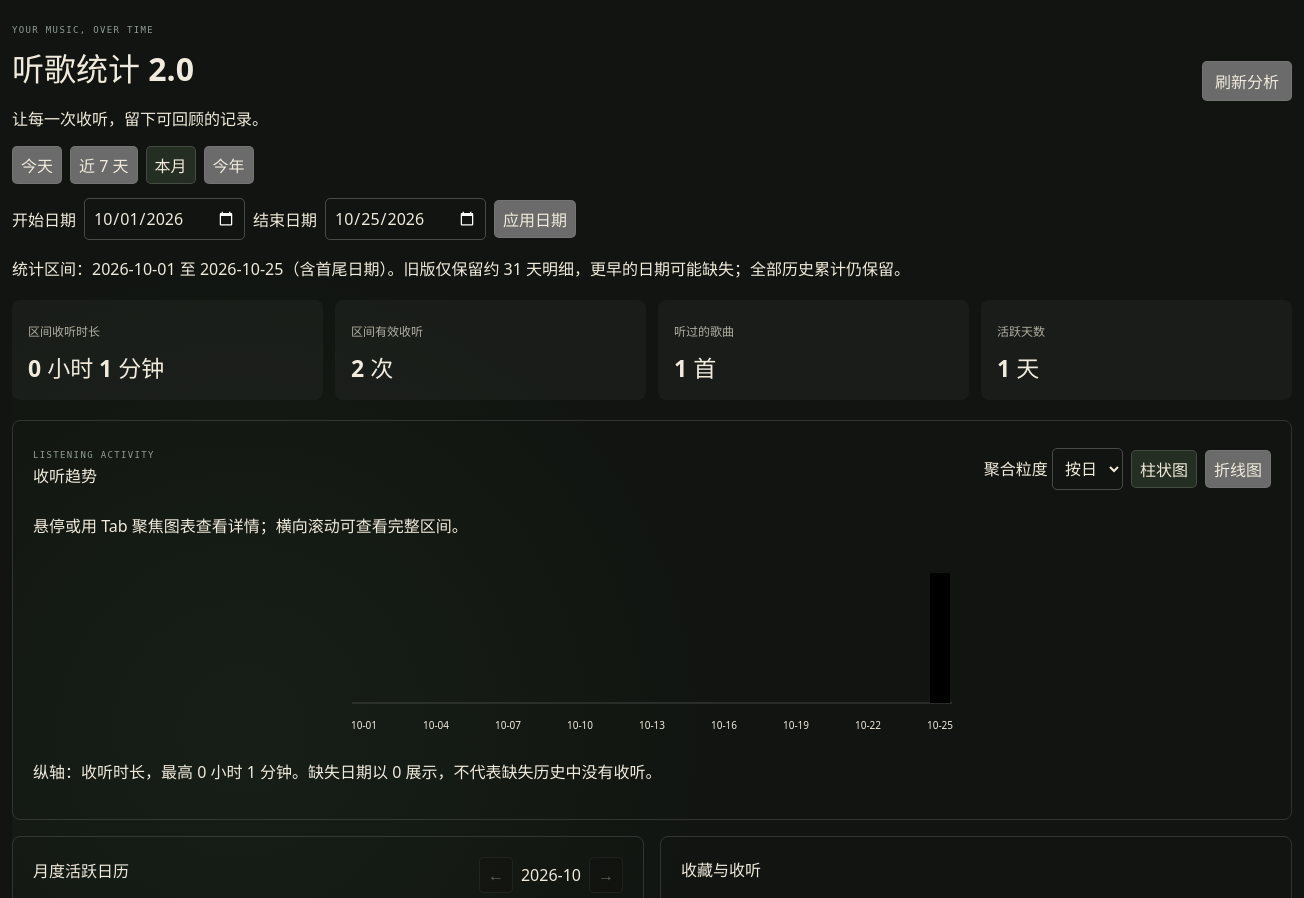
Test: 自定义日期校验、空状态和错误重试
The width and height of the screenshot is (1304, 898).
Type "2027-01-01" into the date field labelled "开始日期" at (164, 219), box [84,198,245,240]
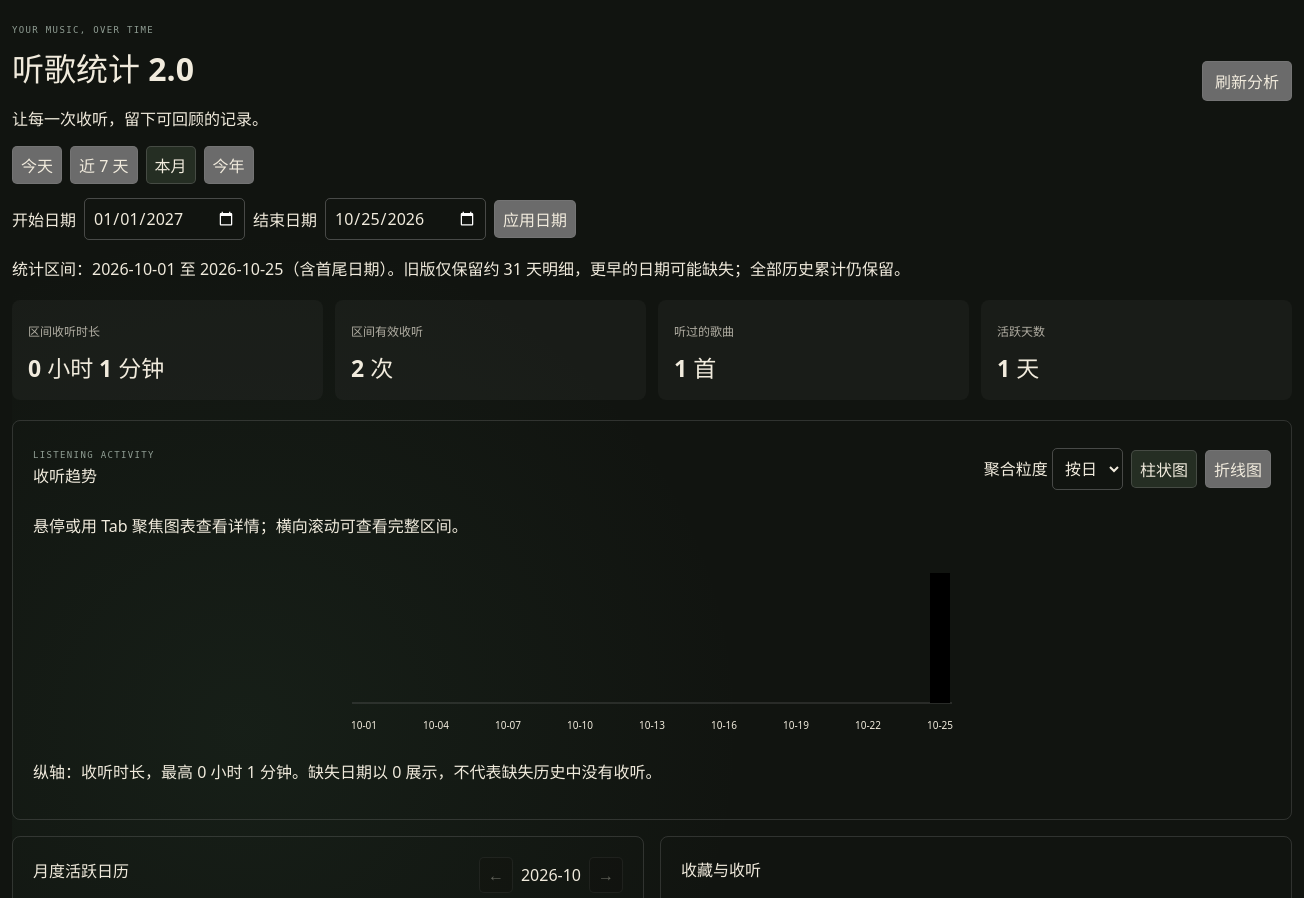
Click the button "应用日期" at (535, 219), box [494,200,576,238]
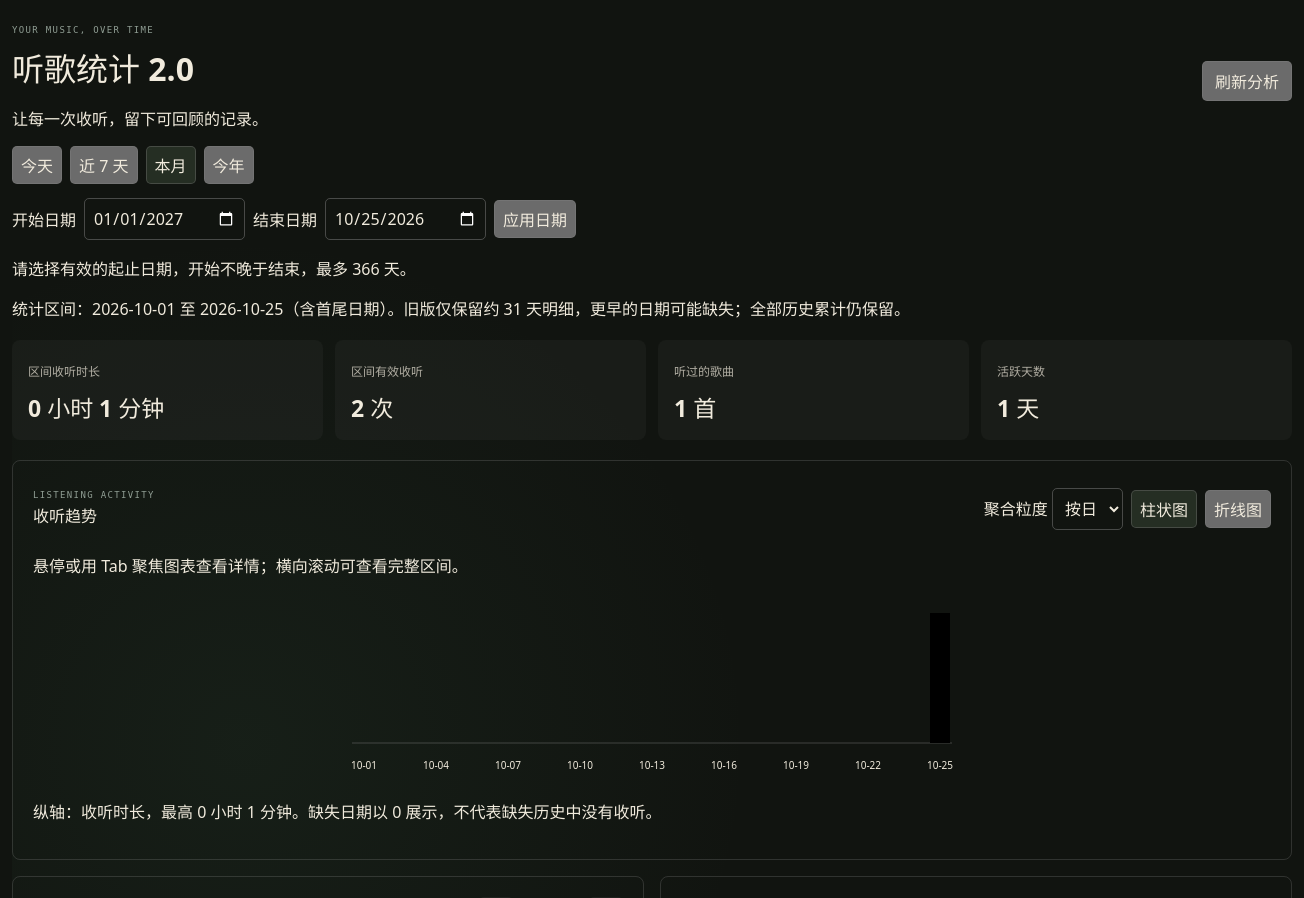
Expected: the message shows "最多 366 天", [12,258,416,280]
Click the button "刷新分析" at (1247, 81), box [1202,61,1292,101]
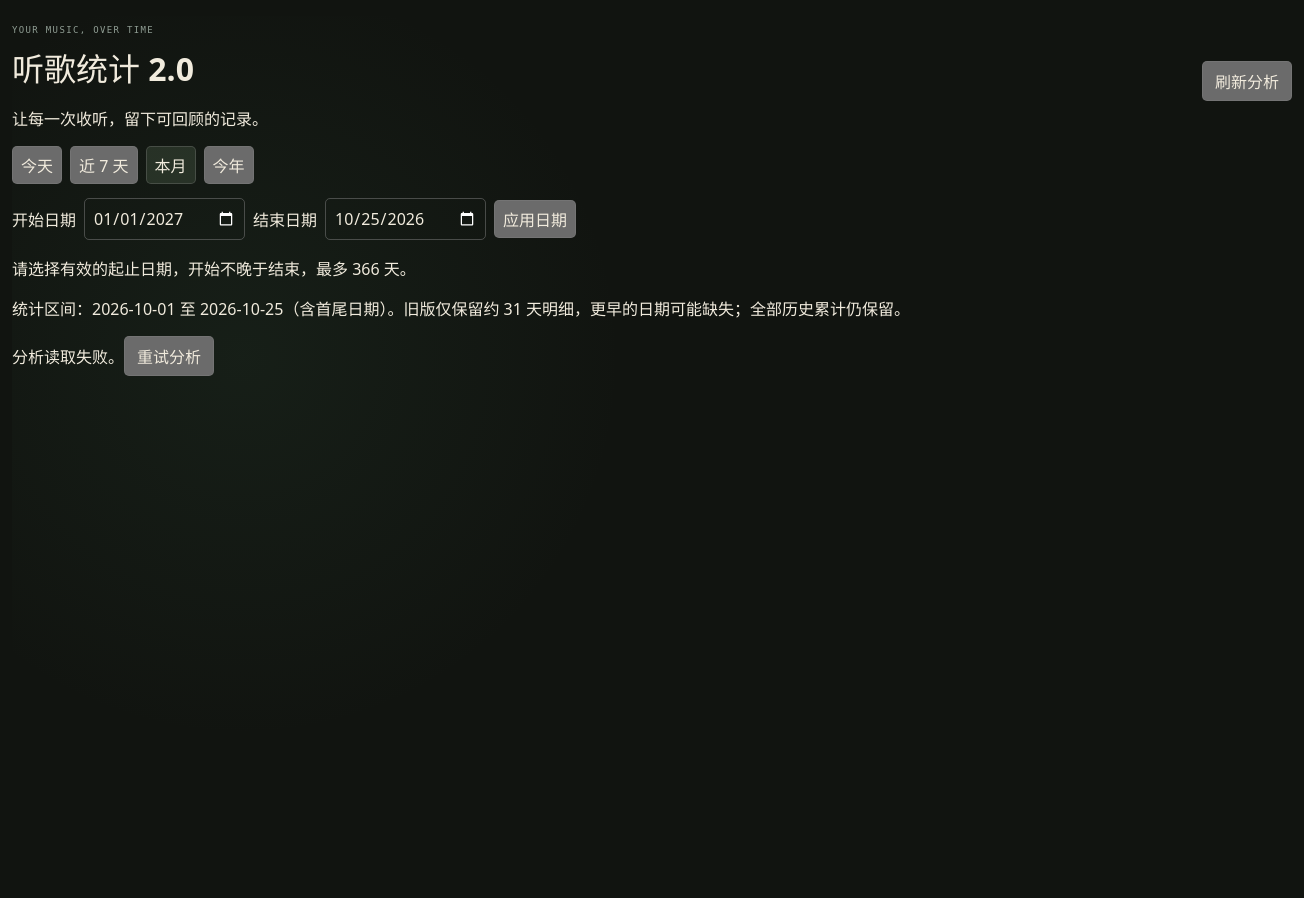
Expected: the text "分析读取失败。 重试分析" is shown, [12,336,214,376]
Click the button "重试分析" at (169, 356), box [124,336,214,376]
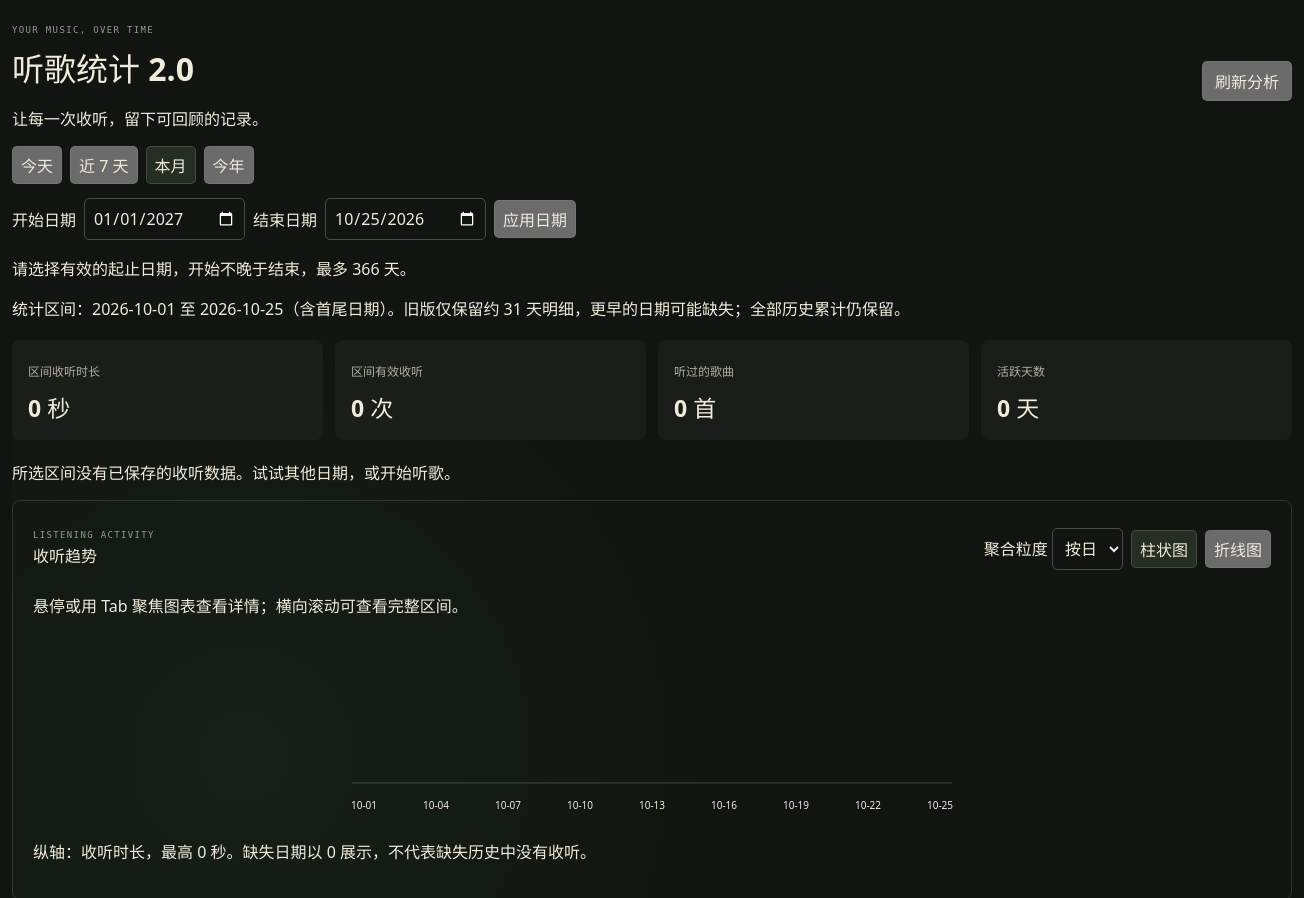
Expected: the text "所选区间没有已保存的收听数据。试试其他日期，或开始听歌。" is shown, [12,462,460,484]
